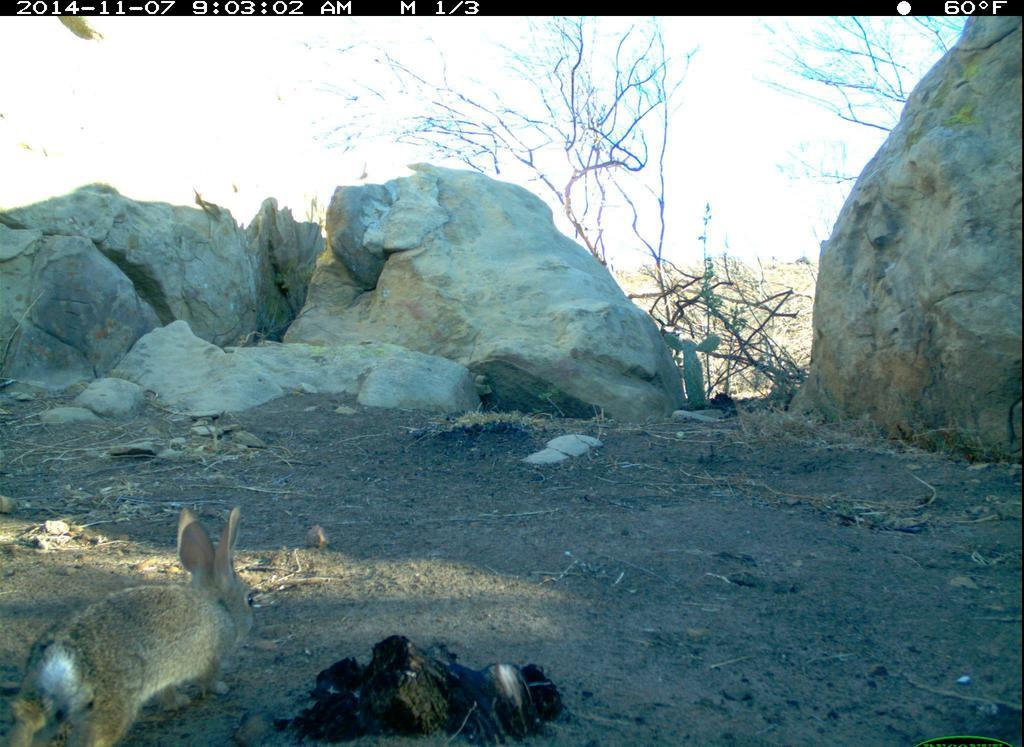rabbit: (4, 495, 265, 747)
